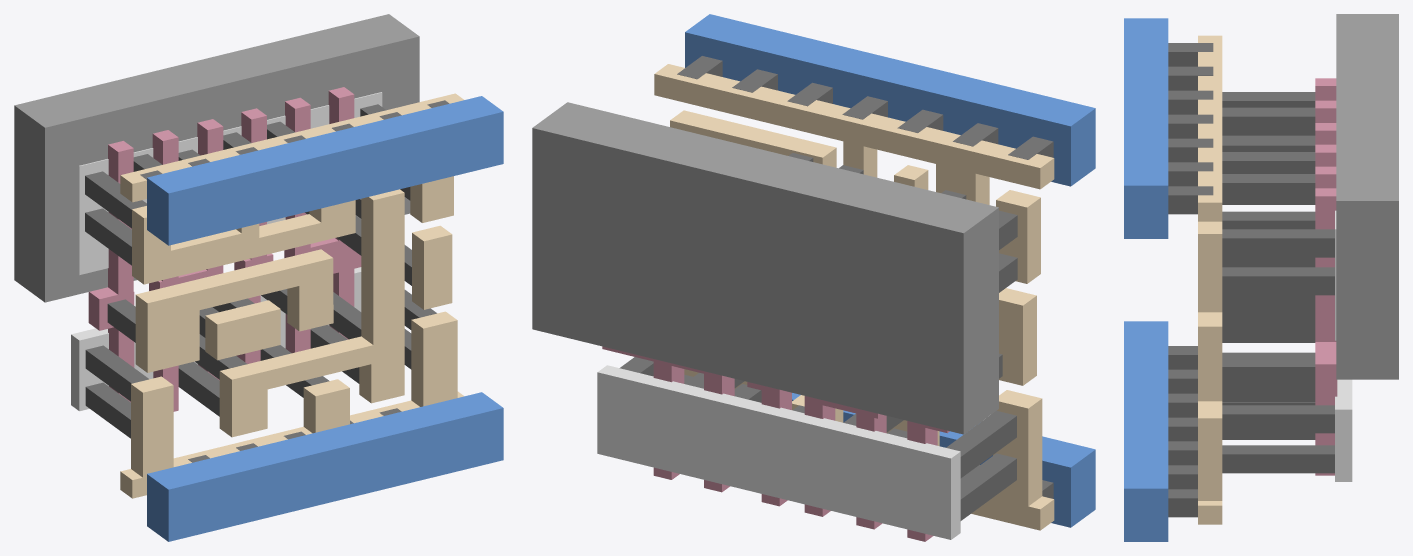
File: sky130_fd_sc_hd__a21oi_2.gds.gltf
3 views of the same model, side by side, from view 1: azimuth 30°, elevation 25°; view 2: azimuth 150°, elevation 25°; view 3: azimuth 270°, elevation 25° (orthographic). The views are drawn at different scales.
Visible parts, largest first — view 1: sky130_fd_sc_hd__a21oi_2_li1, sky130_fd_sc_hd__a21oi_2_met1, sky130_fd_sc_hd__a21oi_2_nwell, sky130_fd_sc_hd__a21oi_2_licon, sky130_fd_sc_hd__a21oi_2_poly, sky130_fd_sc_hd__a21oi_2_diff, sky130_fd_sc_hd__a21oi_2_mcon; view 2: sky130_fd_sc_hd__a21oi_2_nwell, sky130_fd_sc_hd__a21oi_2_diff, sky130_fd_sc_hd__a21oi_2_li1, sky130_fd_sc_hd__a21oi_2_met1, sky130_fd_sc_hd__a21oi_2_licon, sky130_fd_sc_hd__a21oi_2_poly, sky130_fd_sc_hd__a21oi_2_mcon; view 3: sky130_fd_sc_hd__a21oi_2_licon, sky130_fd_sc_hd__a21oi_2_nwell, sky130_fd_sc_hd__a21oi_2_met1, sky130_fd_sc_hd__a21oi_2_mcon, sky130_fd_sc_hd__a21oi_2_li1, sky130_fd_sc_hd__a21oi_2_poly, sky130_fd_sc_hd__a21oi_2_diff.
Part boxes in pixels (bbox=[...]): sky130_fd_sc_hd__a21oi_2_li1: bbox=[120, 93, 463, 498]; sky130_fd_sc_hd__a21oi_2_met1: bbox=[147, 96, 503, 541]; sky130_fd_sc_hd__a21oi_2_nwell: bbox=[14, 14, 419, 302]; sky130_fd_sc_hd__a21oi_2_licon: bbox=[85, 104, 436, 438]; sky130_fd_sc_hd__a21oi_2_poly: bbox=[88, 87, 361, 411]; sky130_fd_sc_hd__a21oi_2_diff: bbox=[71, 92, 382, 411]; sky130_fd_sc_hd__a21oi_2_mcon: bbox=[140, 100, 449, 462]; sky130_fd_sc_hd__a21oi_2_nwell: bbox=[532, 102, 998, 434]; sky130_fd_sc_hd__a21oi_2_diff: bbox=[597, 365, 960, 539]; sky130_fd_sc_hd__a21oi_2_li1: bbox=[654, 64, 1054, 530]; sky130_fd_sc_hd__a21oi_2_met1: bbox=[685, 14, 1095, 527]; sky130_fd_sc_hd__a21oi_2_licon: bbox=[619, 153, 1017, 520]; sky130_fd_sc_hd__a21oi_2_poly: bbox=[602, 346, 949, 541]; sky130_fd_sc_hd__a21oi_2_mcon: bbox=[677, 56, 1053, 498]; sky130_fd_sc_hd__a21oi_2_licon: bbox=[1222, 92, 1334, 473]; sky130_fd_sc_hd__a21oi_2_nwell: bbox=[1336, 14, 1398, 379]; sky130_fd_sc_hd__a21oi_2_met1: bbox=[1124, 18, 1168, 541]; sky130_fd_sc_hd__a21oi_2_mcon: bbox=[1168, 43, 1213, 517]; sky130_fd_sc_hd__a21oi_2_li1: bbox=[1198, 35, 1222, 524]; sky130_fd_sc_hd__a21oi_2_poly: bbox=[1315, 78, 1337, 475]; sky130_fd_sc_hd__a21oi_2_diff: bbox=[1335, 210, 1352, 481].
Size of the model in its own units: 3.6 by 3.2 by 2.24.
